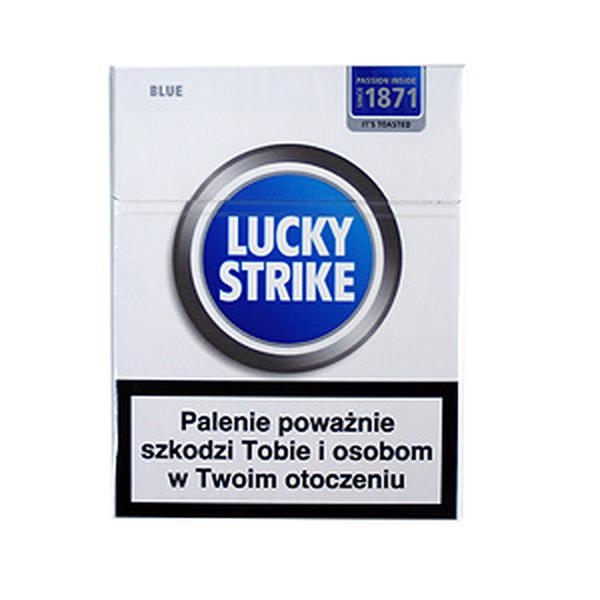lucky_strike_blue: (113, 67, 460, 521)
